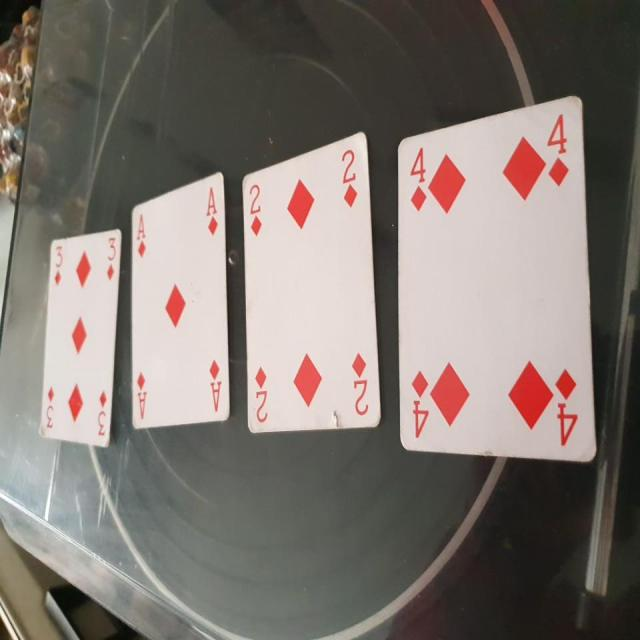2 Diamonds: (238, 130, 391, 437)
3 Diamonds: (38, 225, 123, 450)
4 Diamonds: (392, 93, 598, 471)
A Diamonds: (121, 169, 236, 435)
